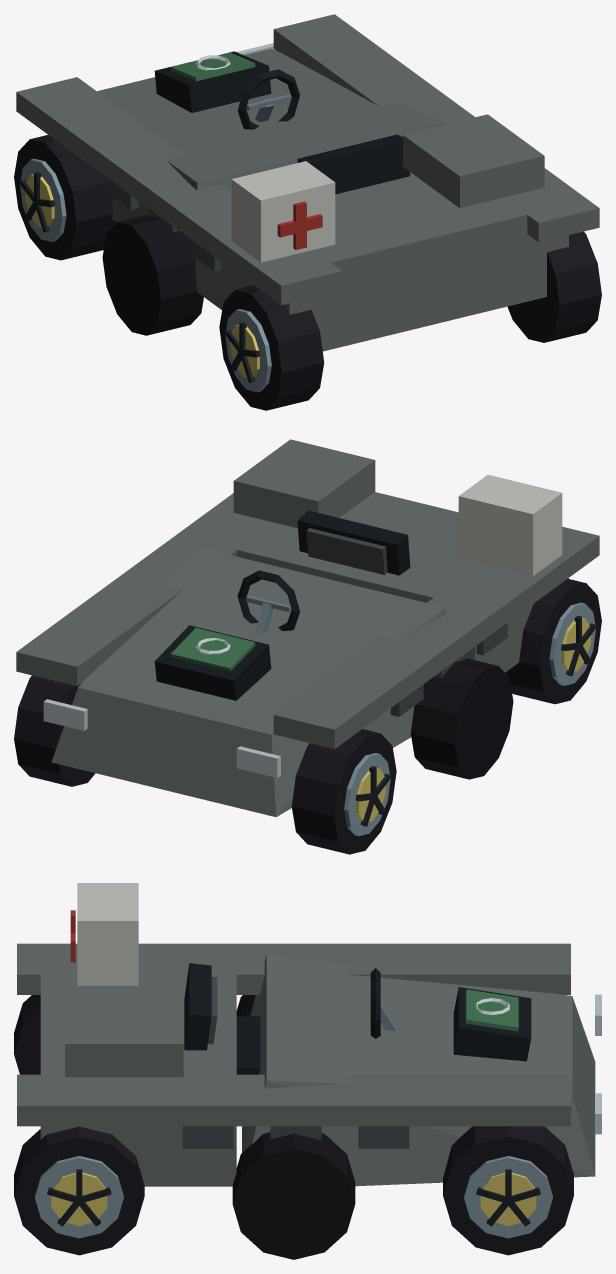
File: kart.glb
3 views of the same model, one above another, from view 1: azimuth 30°, elevation 25°; view 2: azimuth 150°, elevation 25°; view 3: azimuth 270°, elevation 25° (orthographic). The views are drawn at different scales.
Visible parts, largest first — view 1: identity-apc-apc-armored-hull, wheel-rear-left, wheel-front-left, identity-apc-motif-medical, wheel-rear-right, identity-apc-driver-cockpit, identity-apc-motif-scanner; view 2: identity-apc-apc-armored-hull, wheel-front-left, identity-apc-motif-medical, wheel-rear-left, identity-apc-driver-cockpit, identity-apc-motif-scanner, wheel-front-right; view 3: identity-apc-apc-armored-hull, wheel-front-right, wheel-rear-right, identity-apc-motif-medical, identity-apc-motif-scanner, identity-apc-driver-cockpit, wheel-rear-left.
Boxes of the visible parts, <box> form: identity-apc-apc-armored-hull: <box>16,14,599,351</box>; wheel-rear-left: <box>219,285,324,410</box>; wheel-front-left: <box>14,135,116,260</box>; identity-apc-motif-medical: <box>231,161,335,262</box>; wheel-rear-right: <box>507,231,601,342</box>; identity-apc-driver-cockpit: <box>237,69,410,194</box>; identity-apc-motif-scanner: <box>154,51,271,112</box>; identity-apc-apc-armored-hull: <box>16,439,599,816</box>; wheel-front-left: <box>291,729,396,854</box>; identity-apc-motif-medical: <box>458,474,562,576</box>; wheel-rear-left: <box>505,579,601,704</box>; identity-apc-driver-cockpit: <box>237,510,410,634</box>; identity-apc-motif-scanner: <box>154,625,271,700</box>; wheel-front-right: <box>14,675,95,786</box>; identity-apc-apc-armored-hull: <box>17,943,601,1259</box>; wheel-front-right: <box>443,1126,573,1255</box>; wheel-rear-right: <box>14,1126,144,1255</box>; identity-apc-motif-medical: <box>70,883,138,985</box>; identity-apc-motif-scanner: <box>453,987,531,1061</box>; identity-apc-driver-cockpit: <box>184,963,396,1074</box>; wheel-rear-left: <box>14,995,40,1074</box>.
Size of the model in its own units: 2.08 by 1.15 by 2.88.
